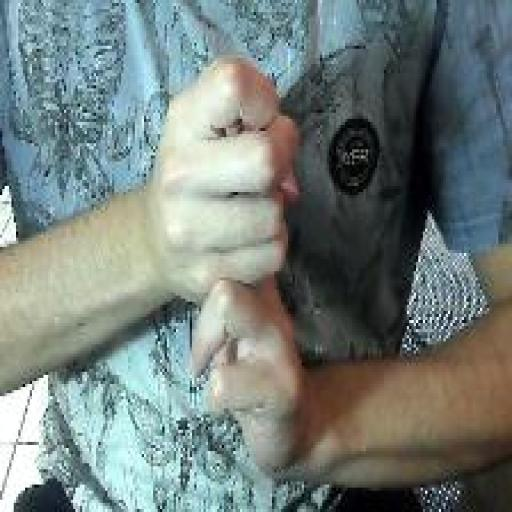Ne -rat-: (147, 52, 312, 475)
